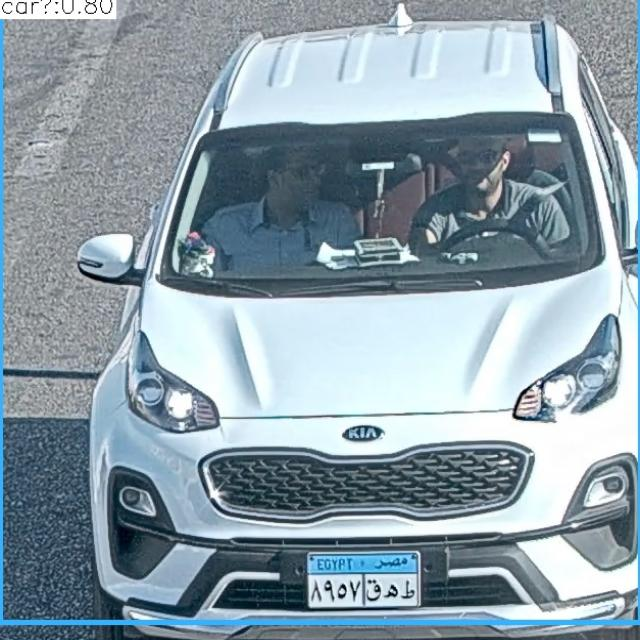windshield: (162, 115, 587, 293)
